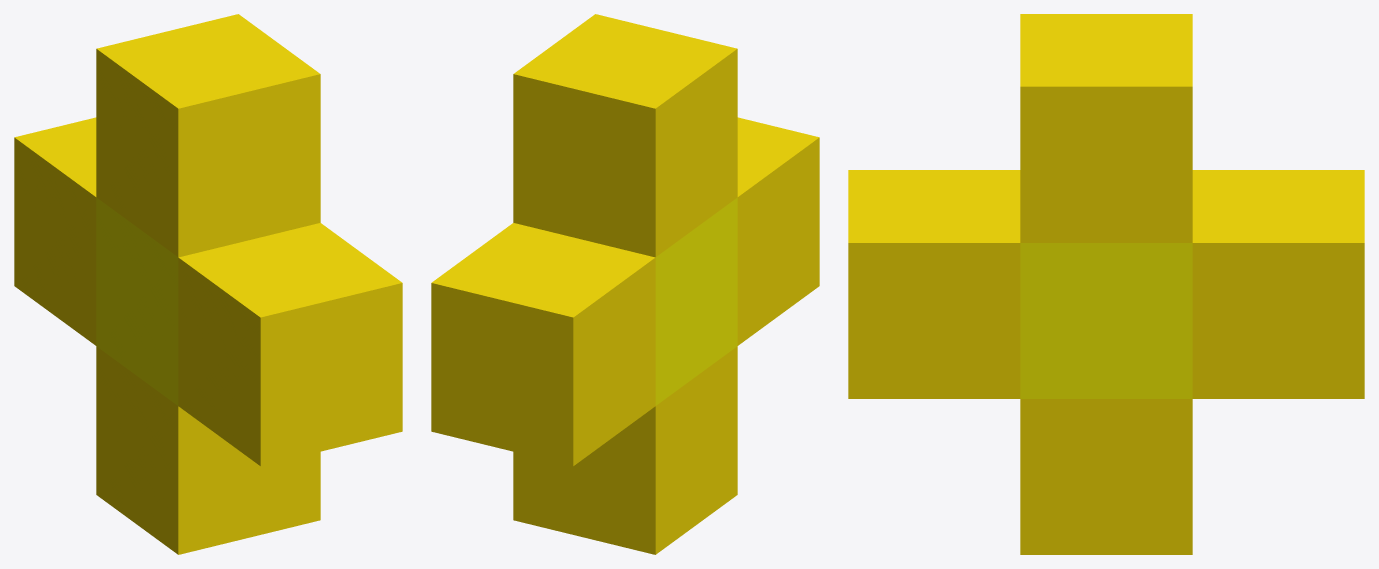
The model's file is AA_Proj_DefaultBombLit.fbx.
3 renders of one model, left to right at view 1: azimuth 30°, elevation 25°; view 2: azimuth 150°, elevation 25°; view 3: azimuth 270°, elevation 25°, orthographic. The views are drawn at different scales.
Parts seen in each view (by area): view 1: Cube.064, Cube.080, Cube.111, Cube.078, Cube.079; view 2: Cube.078, Cube.080, Cube.111, Cube.064, Cube.079; view 3: Cube.080, Cube.078, Cube.064, Cube.111, Cube.079.
Boxes of the visible parts, x1,y1,x2,y2 form: Cube.064: (178,223,402,466); Cube.080: (96,14,320,257); Cube.111: (96,346,320,554); Cube.078: (14,117,96,345); Cube.079: (96,197,178,405); Cube.078: (431,223,655,466); Cube.080: (513,14,737,257); Cube.111: (513,346,737,554); Cube.064: (737,117,819,345); Cube.079: (655,197,737,405); Cube.080: (1020,14,1192,242); Cube.078: (1192,170,1364,398); Cube.064: (848,170,1020,398); Cube.111: (1020,399,1192,554); Cube.079: (1020,243,1192,398).
Size of the model in its own units: 200 by 600 by 600.
